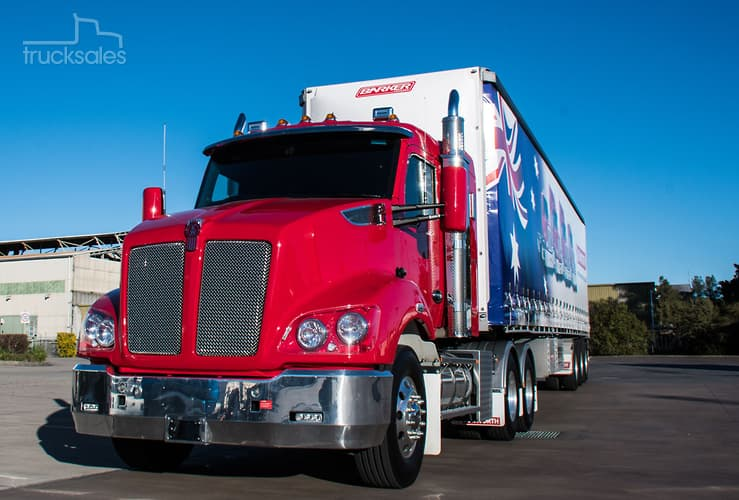Truck: (61, 85, 591, 488)
